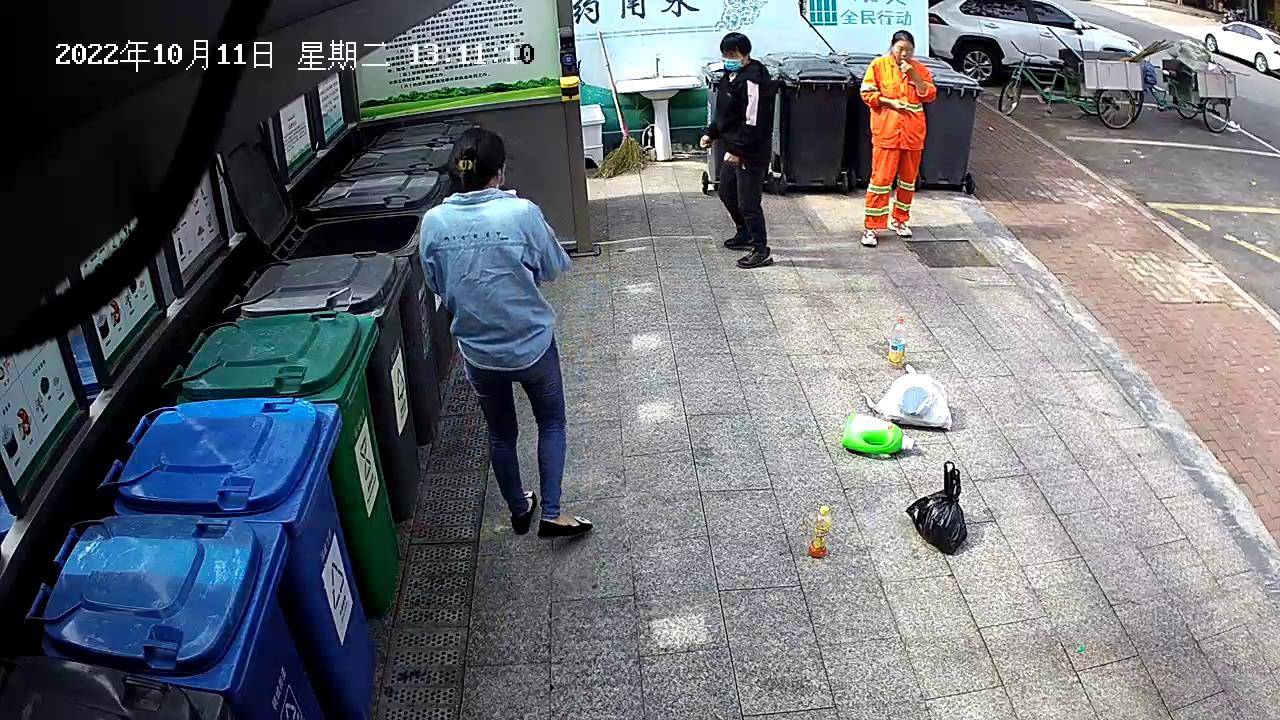garbage-bag: (904, 459, 969, 557), (870, 360, 954, 432)
person: (697, 30, 777, 269)
suliaozhipin: (839, 407, 917, 457), (807, 502, 833, 559), (885, 314, 909, 370)
worker: (417, 125, 596, 538), (859, 28, 937, 248)
